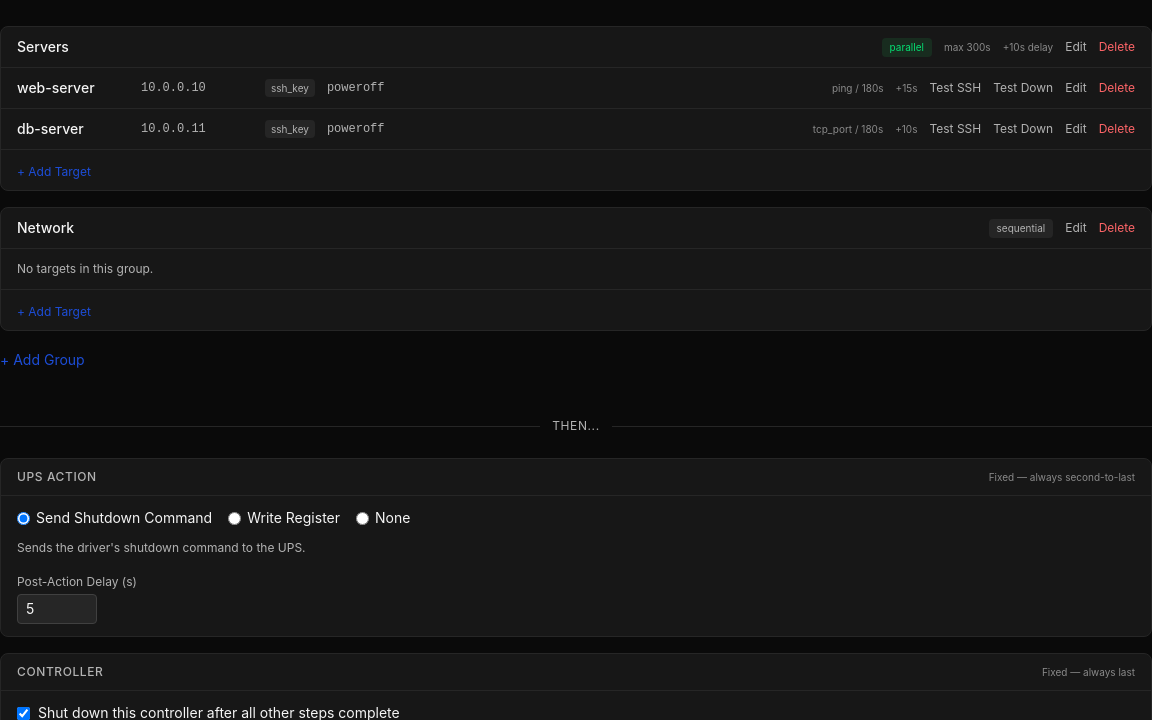
Test case: ShutdownConfig — Groups › opens add group form
(page scrolled)
What coordinates should you click on to do the following:
click the button "+ Add Group"
I would click on:
 (42, 360)
Its box is [0, 350, 85, 370].
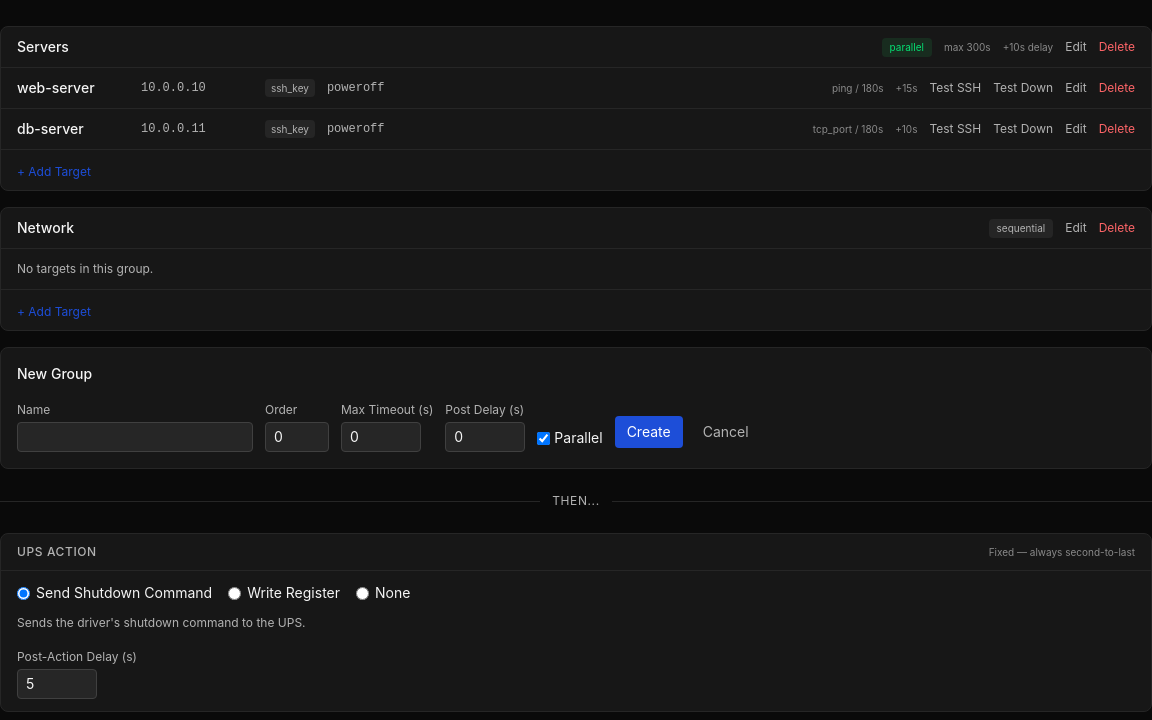
Now the heading "New Group" is shown, box [17, 365, 92, 382]
Now the button "Create" is shown, box [615, 416, 683, 448]
